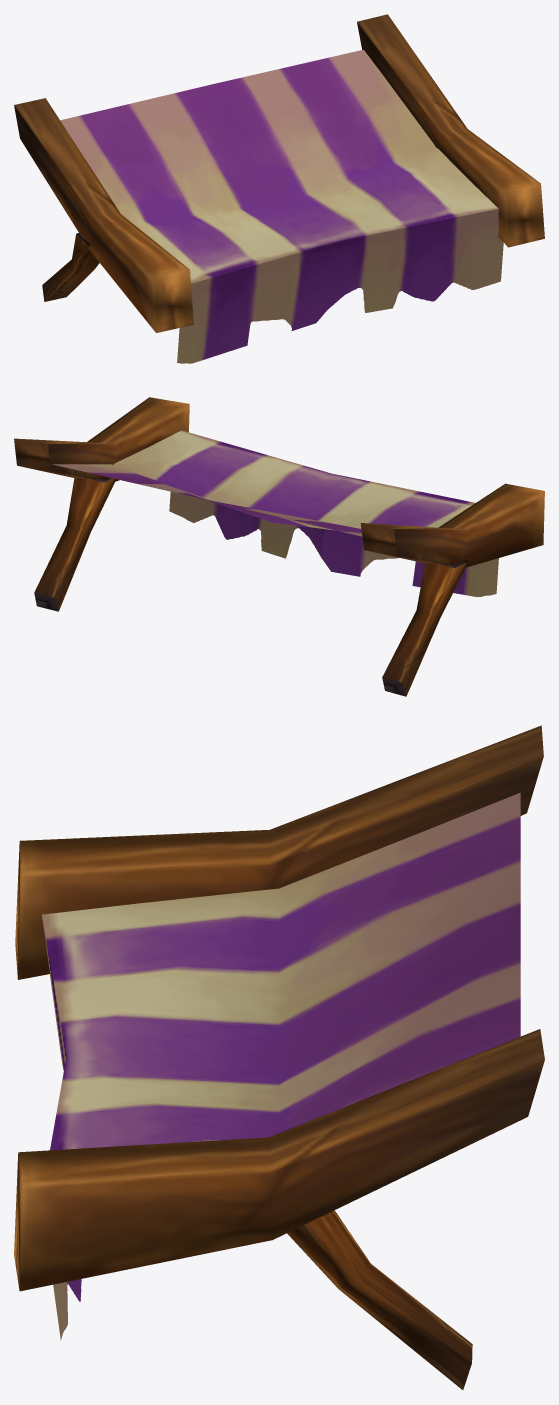
The model's file is roof_3.fbx.
The picture shows the model from 3 angles, top to bottom: view 1: azimuth 30°, elevation 25°; view 2: azimuth 150°, elevation 25°; view 3: azimuth 270°, elevation 25°; orthographic projection. The views are drawn at different scales.
Parts seen in each view (by area): view 1: roof_3; view 2: roof_3; view 3: roof_3.
Part boxes in pixels (x1,y1,x2,y2): roof_3: (14, 14, 544, 363); roof_3: (14, 397, 544, 696); roof_3: (14, 725, 544, 1389).
Bounding box in the file's own units: 2.88 × 1.28 × 1.85.
